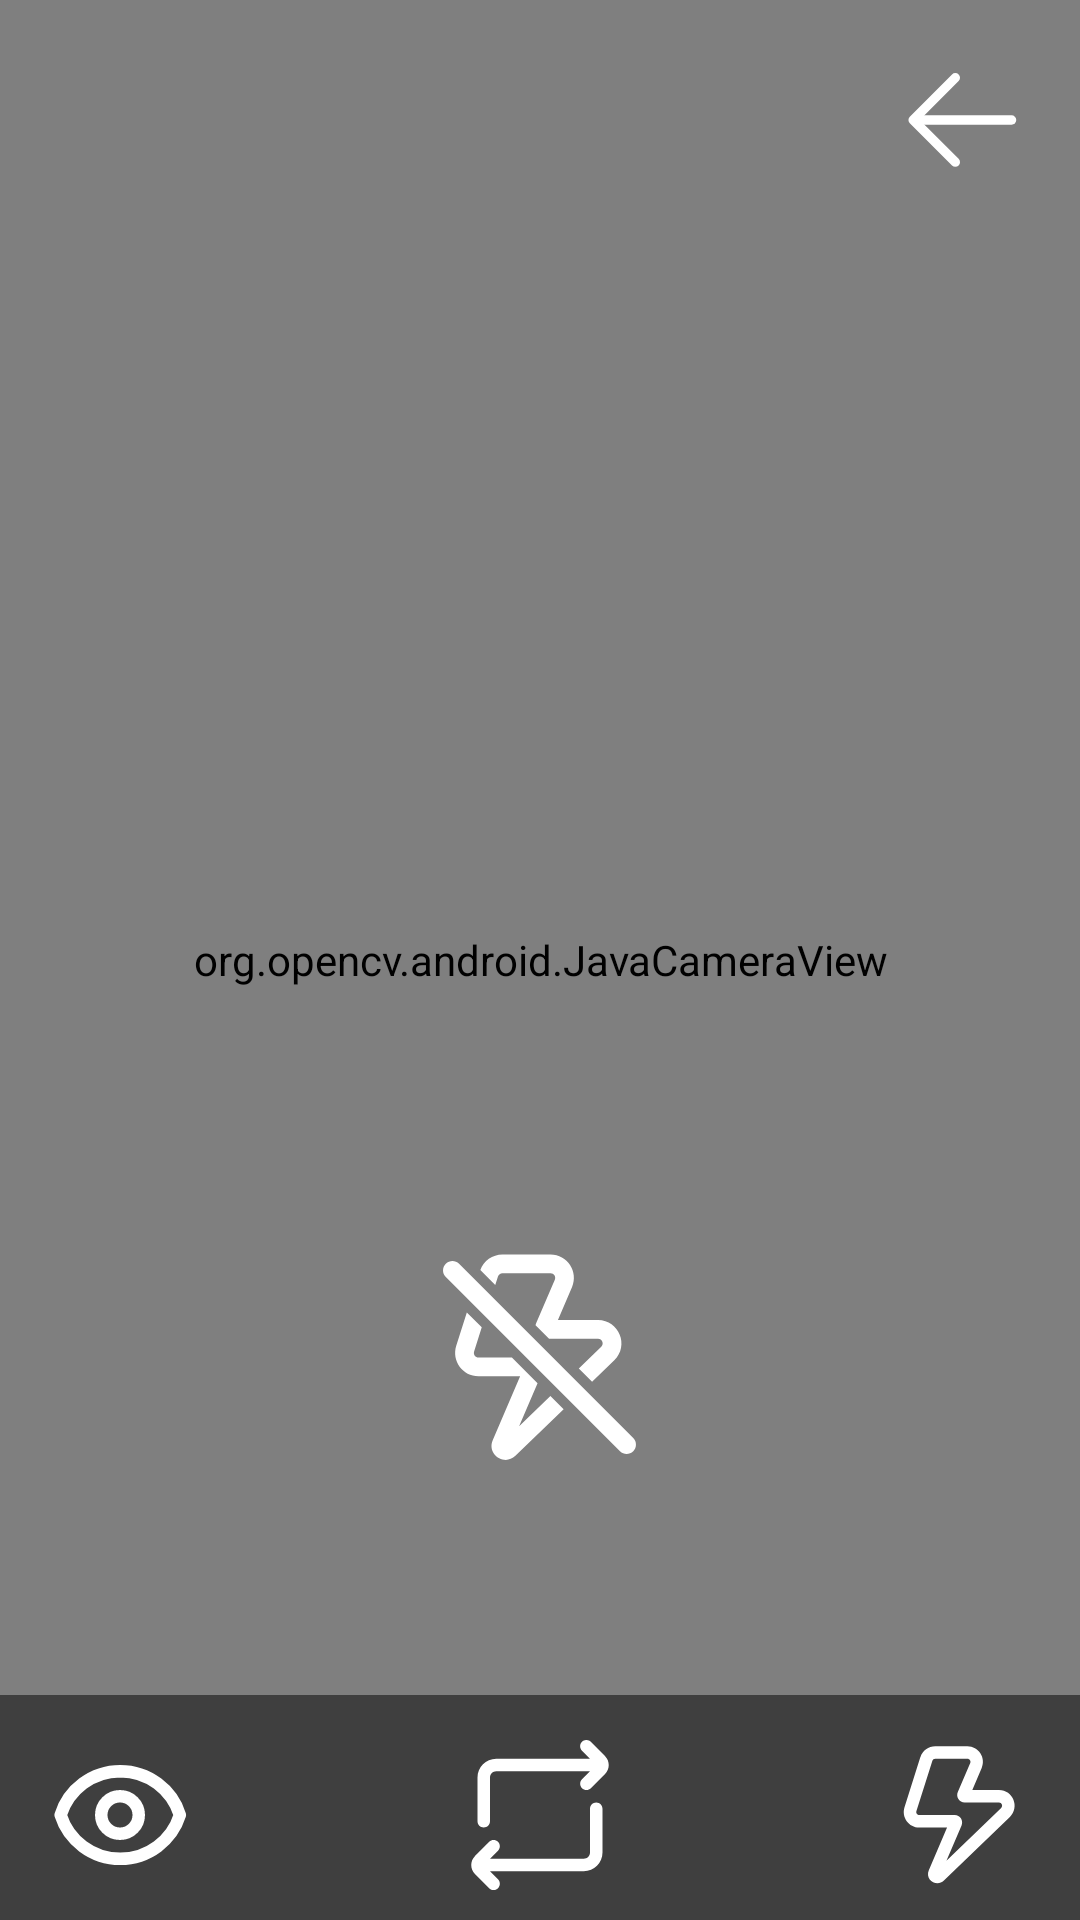

Named icons in this screenshot (1080×1920) and their bounding boxes, (x1, y1, x2, y2):
flash off: (443, 1254, 636, 1460)
Назад: (908, 73, 1016, 167)
Переключить камеру: (471, 1740, 609, 1890)
Режим вспышек: (903, 1746, 1015, 1884)
Режим морганий: (54, 1765, 186, 1865)
